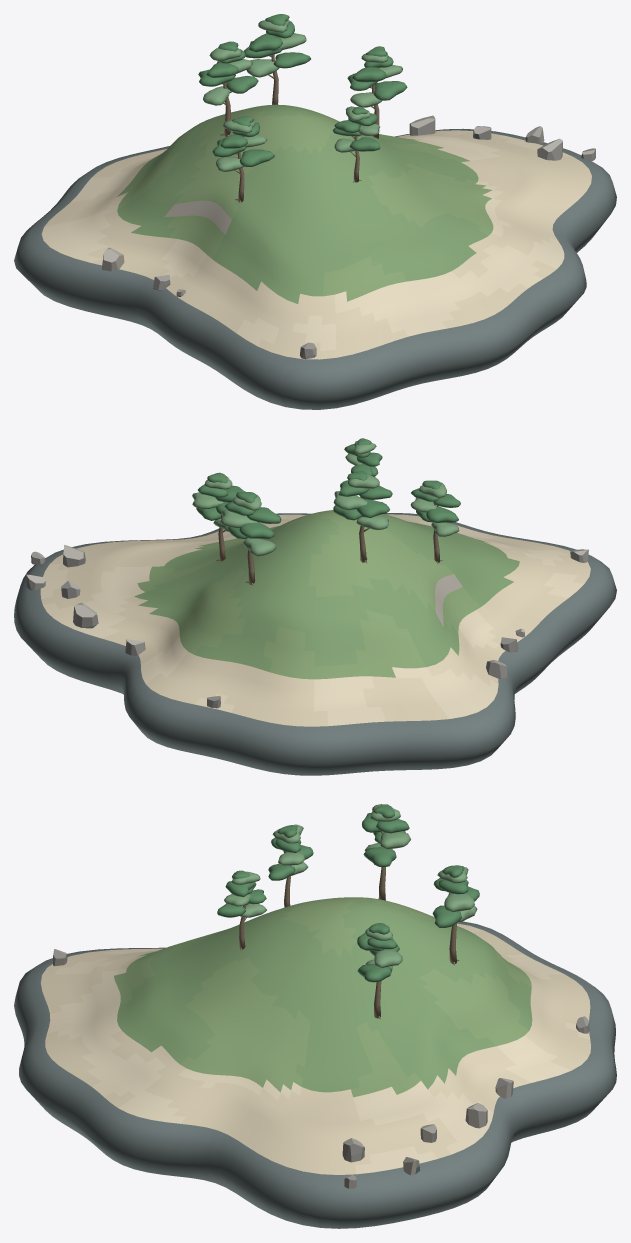
File: ENV_PineIsland.fbx
3 renders of one model, top to bottom at view 1: azimuth 30°, elevation 25°; view 2: azimuth 150°, elevation 25°; view 3: azimuth 270°, elevation 25°, orthographic. The views are drawn at different scales.
Visible parts, largest first — view 1: TerrainShell, CoastalPine_3_Visual, Decor_Visual.001, CoastalPine_0_Visual, CoastalPine_2_Visual, CoastalPine_1_Visual, CoastalPine_4_Visual; view 2: TerrainShell, Decor_Visual.001, CoastalPine_0_Visual, CoastalPine_3_Visual, CoastalPine_2_Visual, CoastalPine_1_Visual, CoastalPine_4_Visual; view 3: TerrainShell, Decor_Visual.001, CoastalPine_0_Visual, CoastalPine_3_Visual, CoastalPine_1_Visual, CoastalPine_4_Visual, CoastalPine_2_Visual.
Boxes of the visible parts, box(x1,y1,x2,y2) form: TerrainShell: box(14, 104, 616, 409); CoastalPine_3_Visual: box(244, 14, 310, 104); Decor_Visual.001: box(102, 115, 595, 359); CoastalPine_0_Visual: box(198, 41, 258, 136); CoastalPine_2_Visual: box(212, 116, 274, 202); CoastalPine_1_Visual: box(347, 46, 407, 138); CoastalPine_4_Visual: box(332, 106, 380, 182); TerrainShell: box(14, 510, 616, 775); Decor_Visual.001: box(26, 545, 588, 708); CoastalPine_0_Visual: box(333, 471, 392, 562); CoastalPine_3_Visual: box(220, 492, 281, 585); CoastalPine_2_Visual: box(410, 480, 460, 563); CoastalPine_1_Visual: box(192, 472, 245, 561); CoastalPine_4_Visual: box(344, 438, 382, 476); TerrainShell: box(14, 897, 616, 1228); Decor_Visual.001: box(53, 949, 589, 1188); CoastalPine_0_Visual: box(362, 804, 410, 900); CoastalPine_3_Visual: box(432, 865, 479, 965); CoastalPine_1_Visual: box(357, 923, 402, 1019); CoastalPine_4_Visual: box(217, 870, 266, 950); CoastalPine_2_Visual: box(268, 824, 313, 907).
Bounding box in the file's own units: 2770 × 1146 × 2545.
